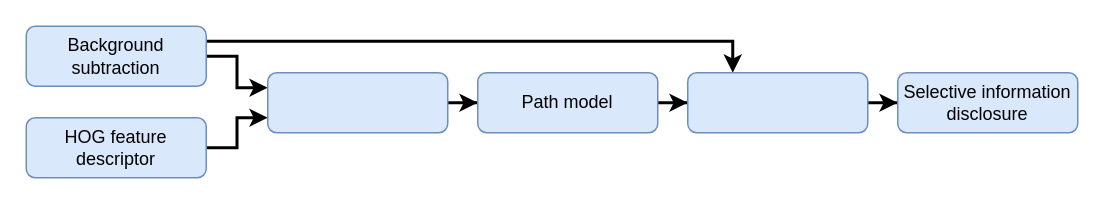
Image size: 1104x204. Some labels were removed from this diagram. Here are the shapes that lost their labels. From the top down, the centre of each, then its label:
the point at 357,102: Human classification
the point at 777,102: Dangerous object classification
